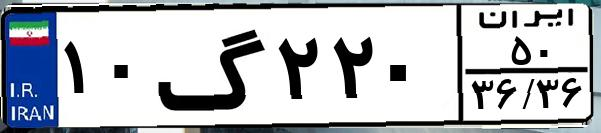0: (385, 28, 445, 110), (110, 28, 156, 98), (537, 27, 568, 80)
1: (57, 26, 110, 100)
2: (270, 28, 330, 110), (330, 28, 385, 110)
3: (470, 70, 495, 125), (535, 70, 560, 125)
5: (508, 27, 537, 80)
6: (560, 70, 590, 125), (495, 70, 520, 125)
گ: (156, 12, 270, 120)
